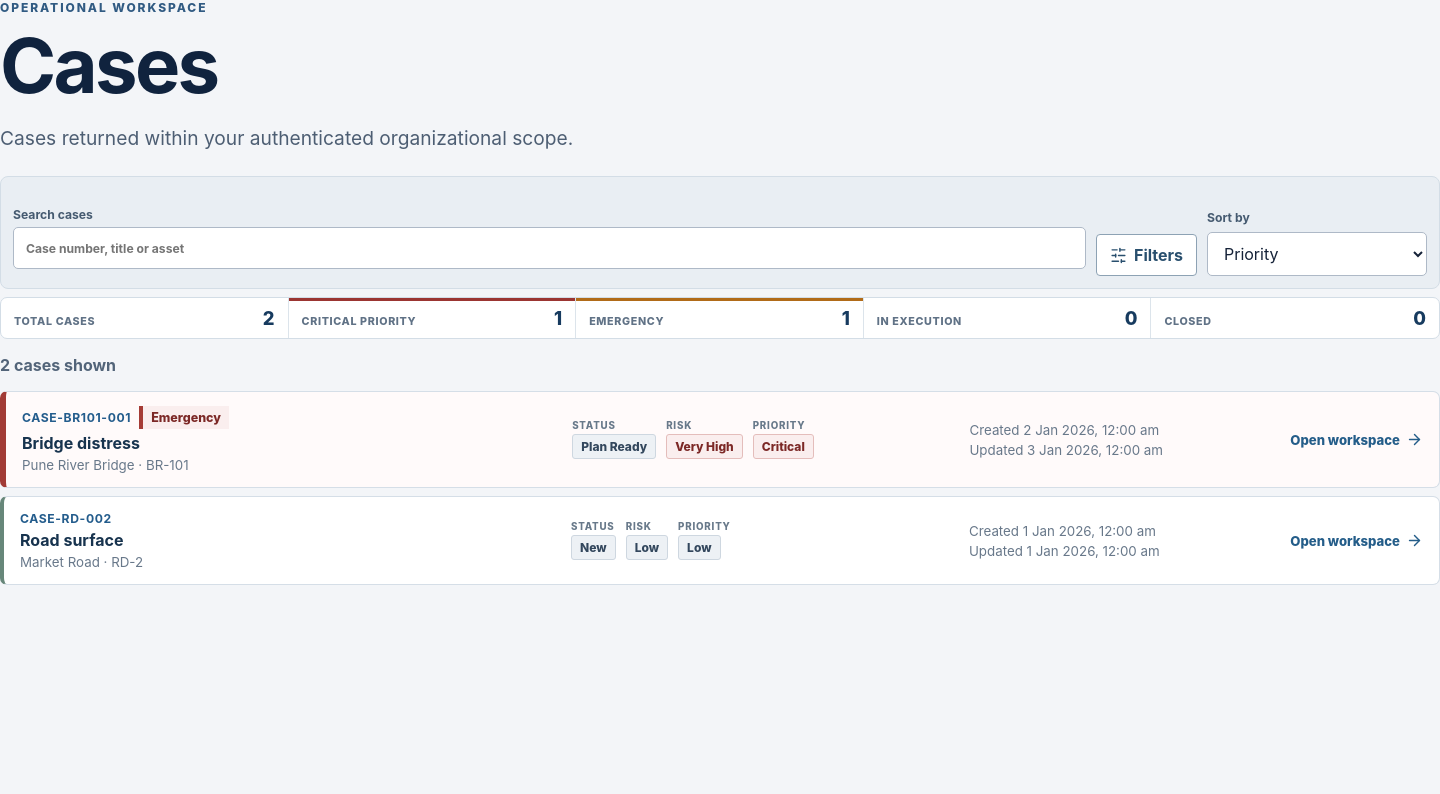
Test case: Cases page › renders all eight governed lifecycle stages with user-facing Action Plan terminology
This screenshot has width=1440, height=794.
Expected: the text "CASE-BR101-001" is shown, top-left (22, 410), bottom-right (131, 425)
Step 1. Click the button "CASE-BR101-001" → (722, 440), box top-left (6, 392), bottom-right (1439, 487)
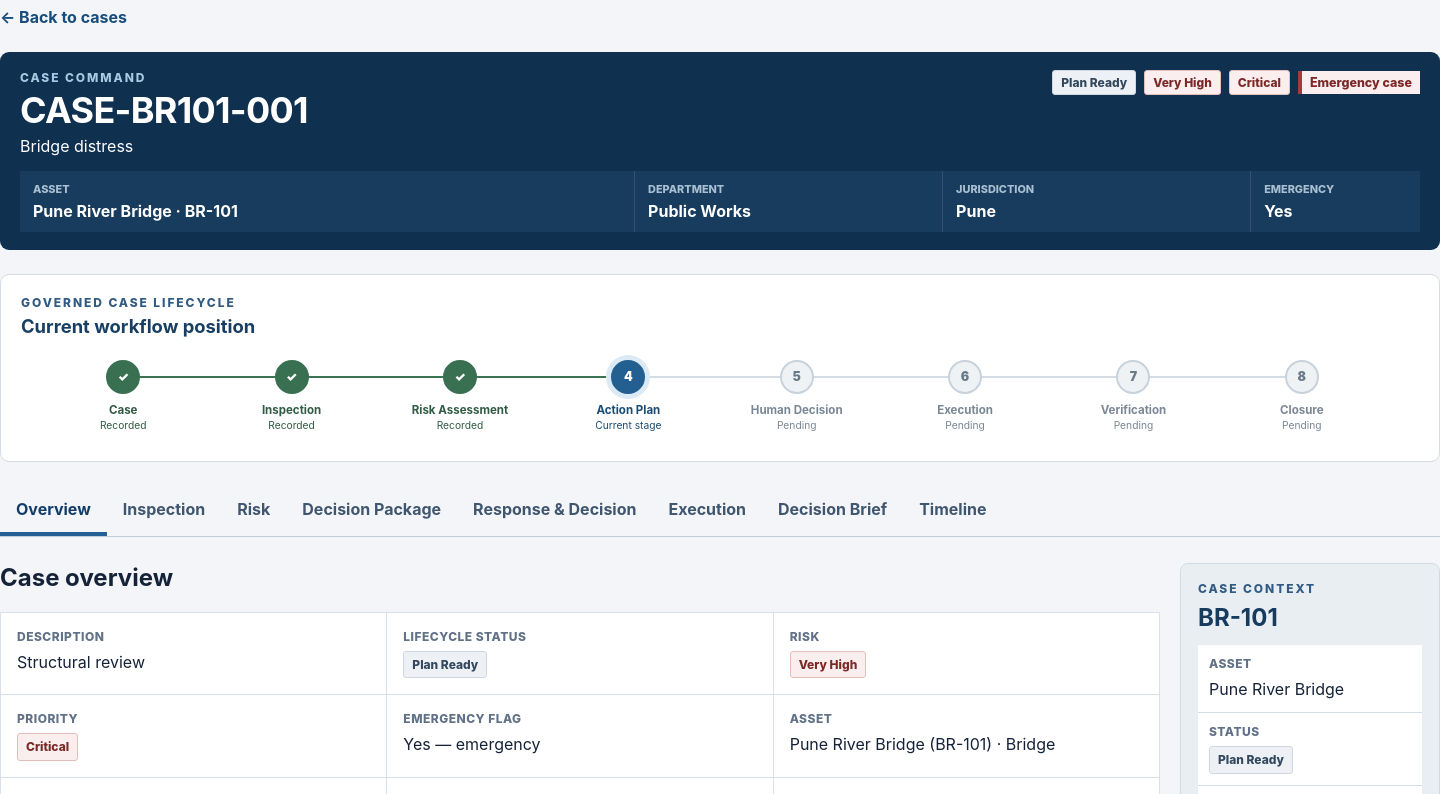
Now the text "Case" is shown, box top-left (109, 403), bottom-right (137, 417)
Now the text "Inspection" is shown, box top-left (262, 403), bottom-right (321, 417)
Now the text "Risk Assessment" is shown, box top-left (412, 403), bottom-right (508, 417)
